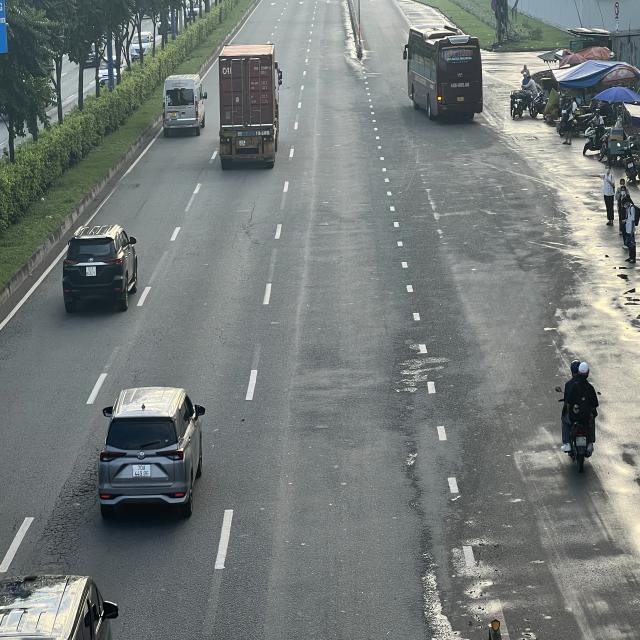car: (94, 384, 204, 516), (1, 571, 120, 637), (61, 226, 138, 314)
coach: (403, 27, 482, 123)
container: (219, 43, 285, 169)
van: (162, 72, 206, 135)
